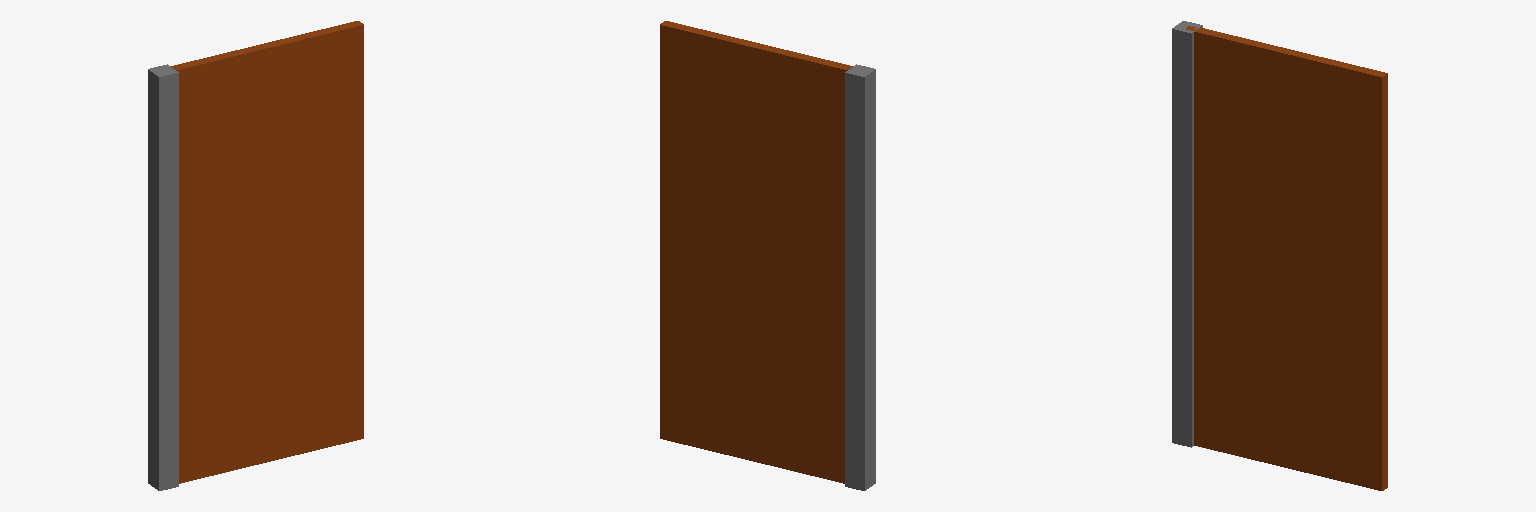
URDF robot description (door_hinge):
<?xml version="1.0"?>
<robot name="door_hinge">
  <link name="frame">
    <visual>
      <origin xyz="0 0 1.0"/>
      <geometry><box size="0.1 0.1 2.0"/></geometry>
      <material name="gray"><color rgba="0.5 0.5 0.5 1.0"/></material>
    </visual>
    <inertial>
      <mass value="0.0"/>
      <inertia ixx="0" ixy="0" ixz="0" iyy="0" iyz="0" izz="0"/>
    </inertial>
  </link>
  <joint name="hinge" type="revolute">
    <parent link="frame"/>
    <child link="panel"/>
    <origin xyz="0 0 0"/>
    <axis xyz="0 0 1"/>
    <limit lower="-1.5708" upper="1.5708" effort="10" velocity="2.0"/>
  </joint>
  <link name="panel">
    <visual>
      <origin xyz="0.5 0 1.0"/>
      <geometry><box size="1.0 0.05 2.0"/></geometry>
      <material name="brown"><color rgba="0.6 0.3 0.1 1.0"/></material>
    </visual>
    <collision>
      <origin xyz="0.5 0 1.0"/>
      <geometry><box size="1.0 0.05 2.0"/></geometry>
    </collision>
    <inertial>
      <mass value="0.0"/>
      <inertia ixx="0" ixy="0" ixz="0" iyy="0" iyz="0" izz="0"/>
    </inertial>
  </link>
</robot>

--- Facts derived from the render (not from the file) ---
Views: 3 orthographic renders of the robot side by side, from view 1: azimuth 30°, elevation 25°; view 2: azimuth 150°, elevation 25°; view 3: azimuth 330°, elevation 25°.
Robot: door_hinge — 2 links, 1 joints (1 revolute); root link frame; default pose: all joints at 0.
Links seen in each view (by area): view 1: panel, frame; view 2: panel, frame; view 3: panel, frame.
Boxes of the visible links, x1=… form: panel: x1=171, y1=21, x2=363, y2=483; frame: x1=148, y1=64, x2=178, y2=490; panel: x1=660, y1=21, x2=852, y2=483; frame: x1=845, y1=64, x2=875, y2=490; panel: x1=1186, y1=26, x2=1387, y2=490; frame: x1=1172, y1=21, x2=1202, y2=447.
Bounding box of the posed robot: 1.05 × 0.1 × 2 m (x, y, z).
Geometry: primitives only (box / cylinder / sphere), no mesh files.
